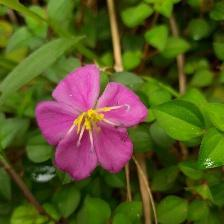malabar melastome: (35, 63, 150, 181)
